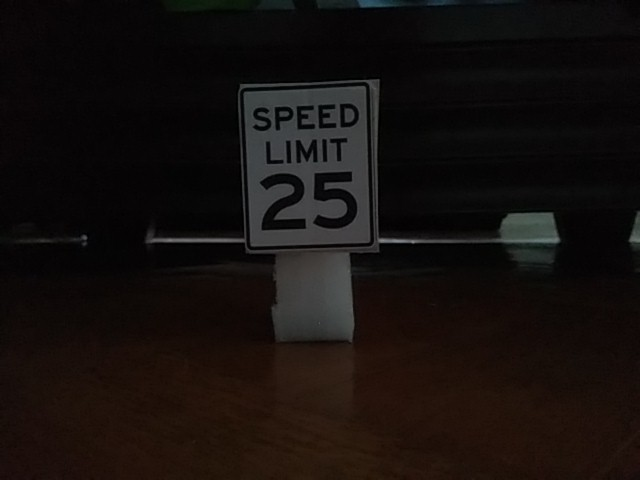Speed Limit 25: (238, 84, 386, 252)
